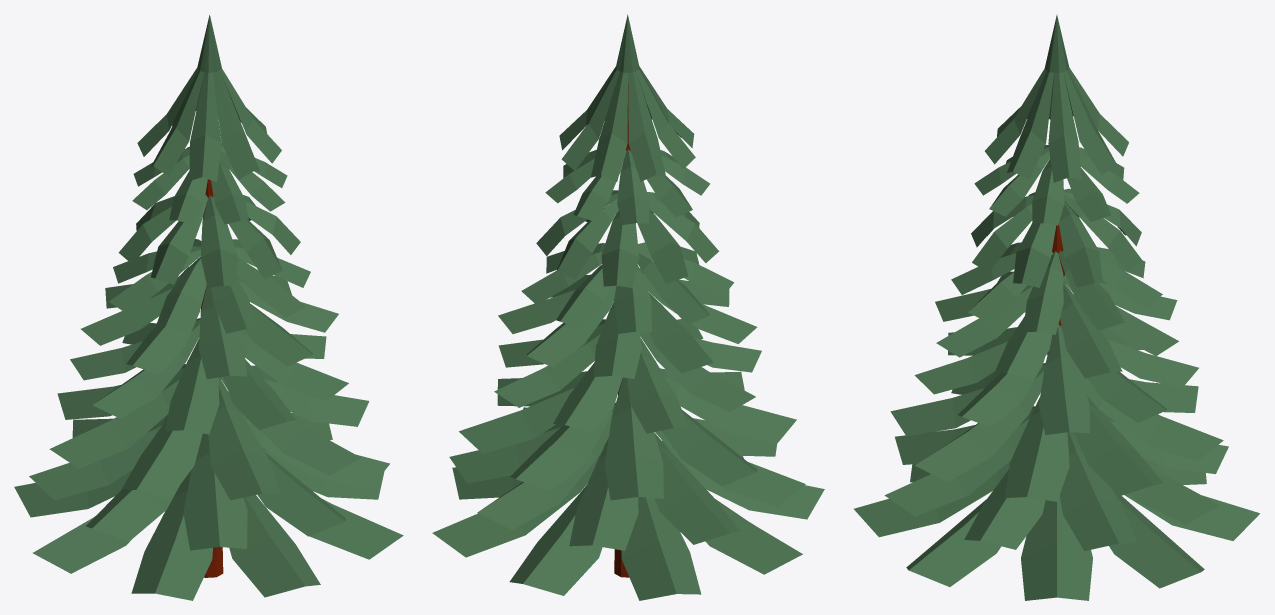
The model's file is Fir_tree_Folhas_Verde_Medio.fbx.
3 renders of one model, left to right at view 1: azimuth 30°, elevation 25°; view 2: azimuth 150°, elevation 25°; view 3: azimuth 270°, elevation 25°, orthographic.
Visible parts, largest first — view 1: Fir_tree_Folhas_Verde_Medio; view 2: Fir_tree_Folhas_Verde_Medio; view 3: Fir_tree_Folhas_Verde_Medio.
Part boxes in pixels (bbox=[...]): Fir_tree_Folhas_Verde_Medio: bbox=[14, 15, 403, 600]; Fir_tree_Folhas_Verde_Medio: bbox=[432, 14, 824, 600]; Fir_tree_Folhas_Verde_Medio: bbox=[854, 15, 1259, 600].
Size of the model in its own units: 377 by 571 by 377.
